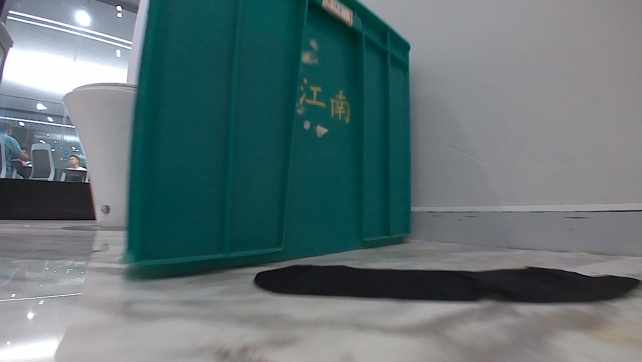socks: (252, 258, 641, 306)
toilet: (61, 80, 140, 230)
